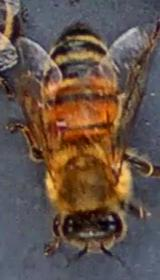varroa_mite: (38, 104, 72, 138)
